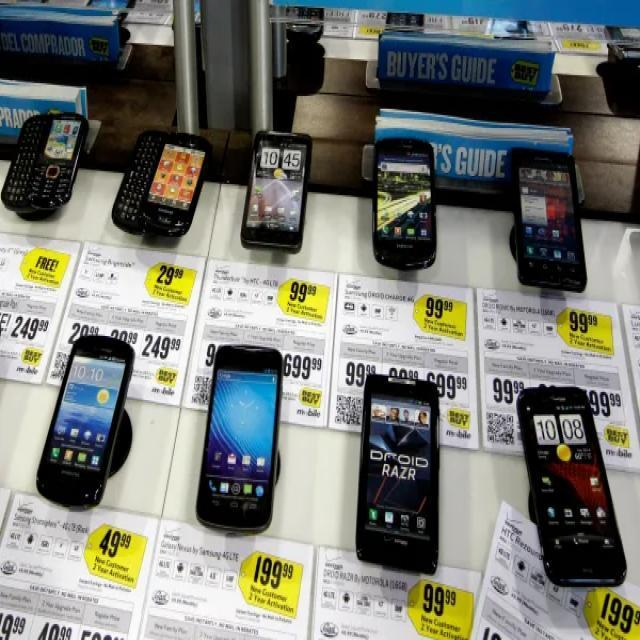cellphone: (502, 385, 630, 579), (194, 340, 296, 529), (499, 152, 602, 328), (348, 379, 436, 561), (50, 340, 124, 510), (364, 138, 449, 261), (5, 106, 89, 224), (246, 131, 308, 271), (120, 129, 198, 237)
